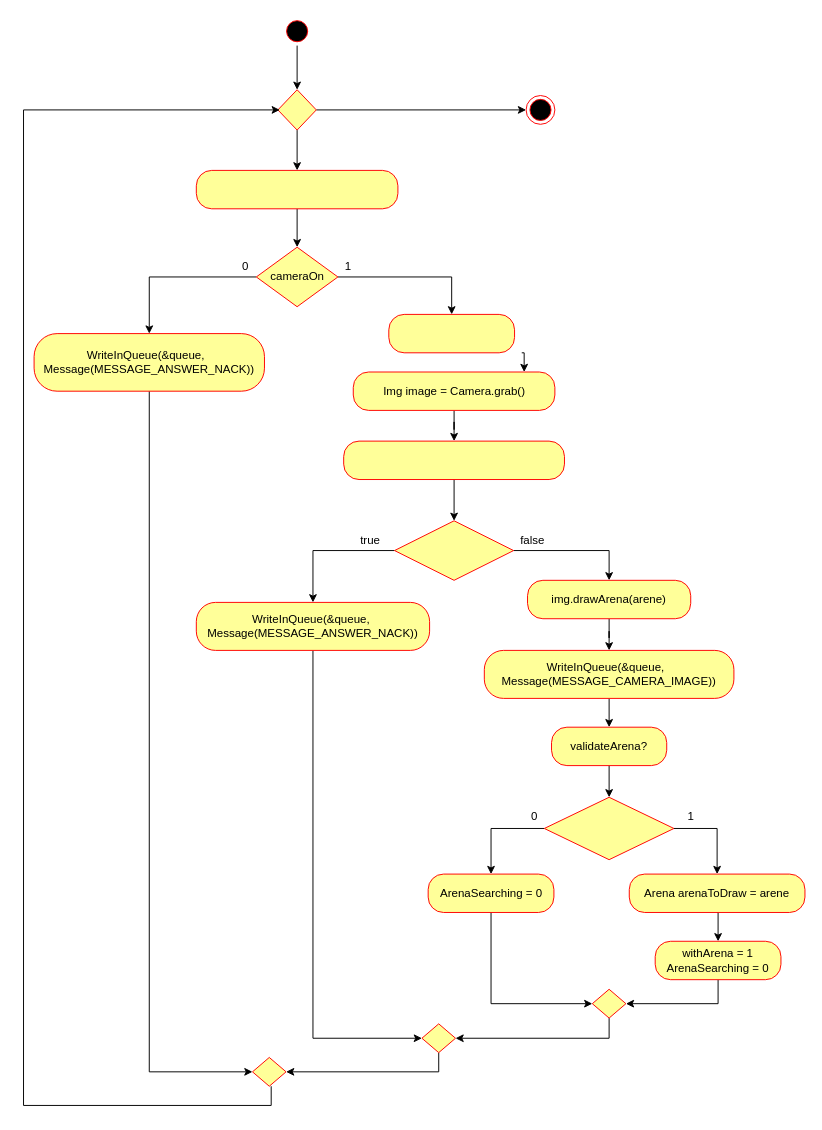
Image size: 822x1130. Some labels were removed from this diagram. The box of each missing label's shape, as (x1, y1, x2, y2) in pixels:
Arena arene = image.searchArena(): (343, 440, 564, 480)
ArenaOK: (543, 796, 674, 860)
arenaSearching = 1: (388, 313, 515, 353)
arene.IsEmpty(): (394, 520, 514, 580)
searchArena?: (195, 169, 398, 209)
